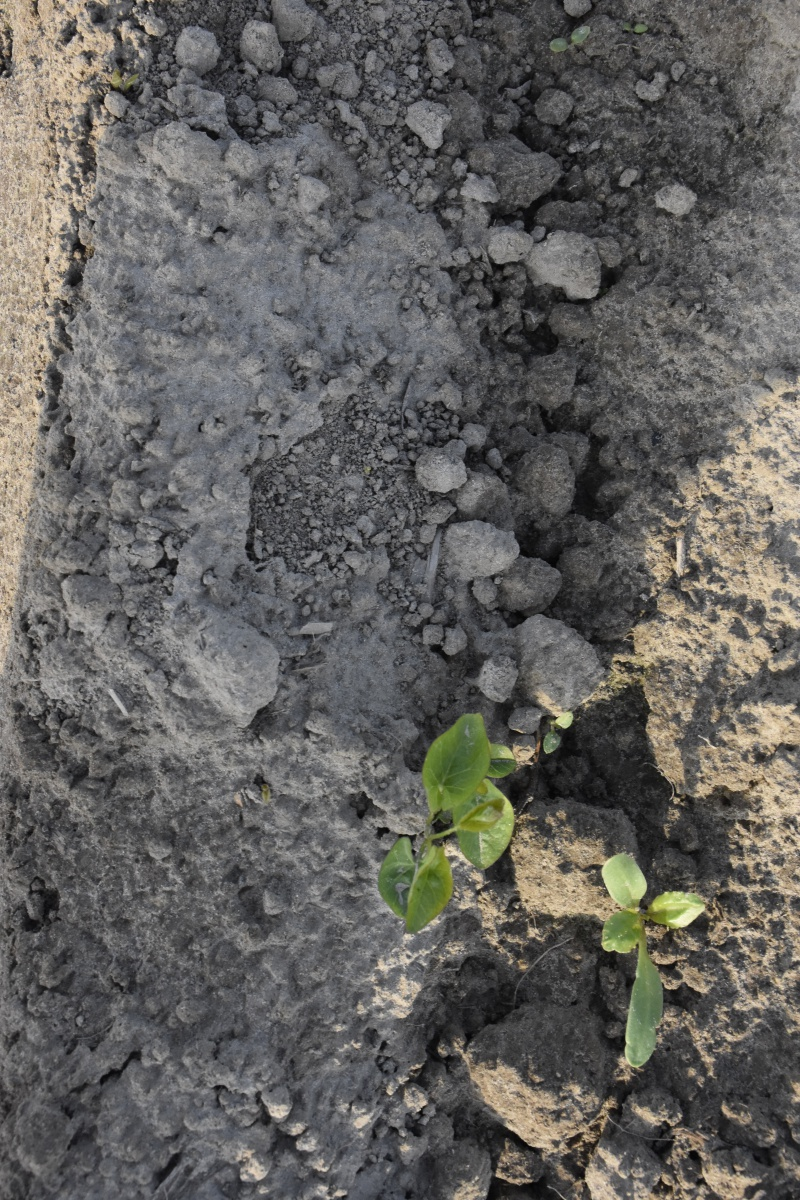field bindweed: (380, 716, 523, 930)
sugar beet: (568, 848, 708, 1085)
